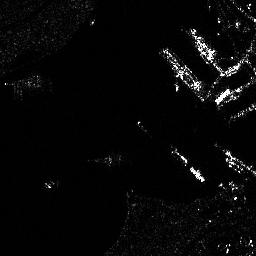ship: (163, 48, 205, 93), (192, 28, 222, 62)
